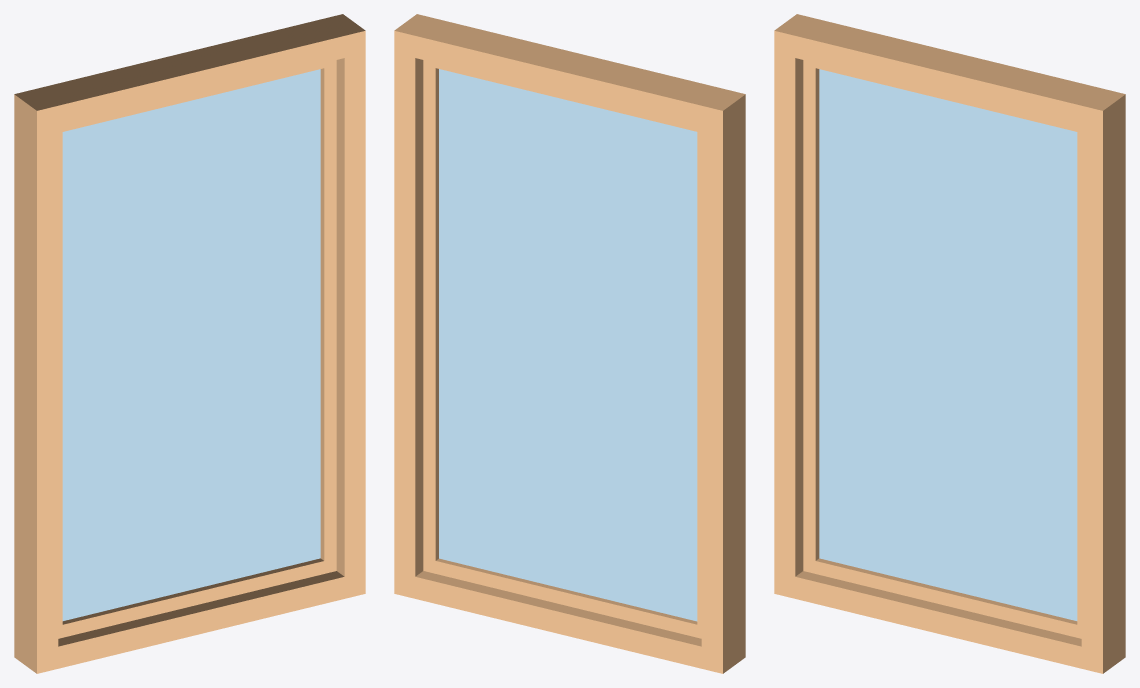
The model's file is Window 6.fbx.
3 renders of one model, left to right at view 1: azimuth 30°, elevation 25°; view 2: azimuth 150°, elevation 25°; view 3: azimuth 330°, elevation 25°, orthographic.
Visible parts, largest first — view 1: Node 0; view 2: Node 0; view 3: Node 0.
Part boxes in pixels (left/top/right/bottom): Node 0: left=14, top=14, right=365, bottom=673; Node 0: left=394, top=14, right=745, bottom=673; Node 0: left=774, top=14, right=1125, bottom=673.
Bounding box in the file's own units: 0.1276 × 1.74 × 1.06.
